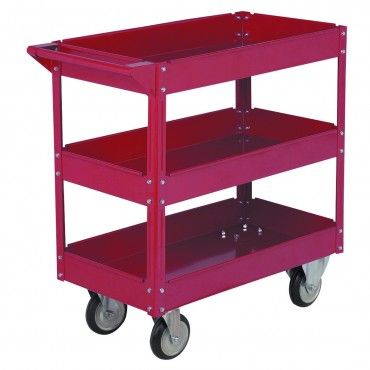Carts: (27, 10, 347, 359)
